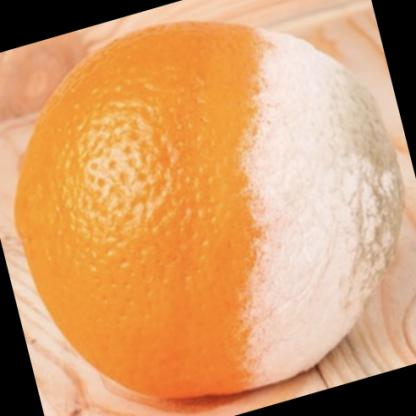rotten_orange: (8, 21, 398, 405)
